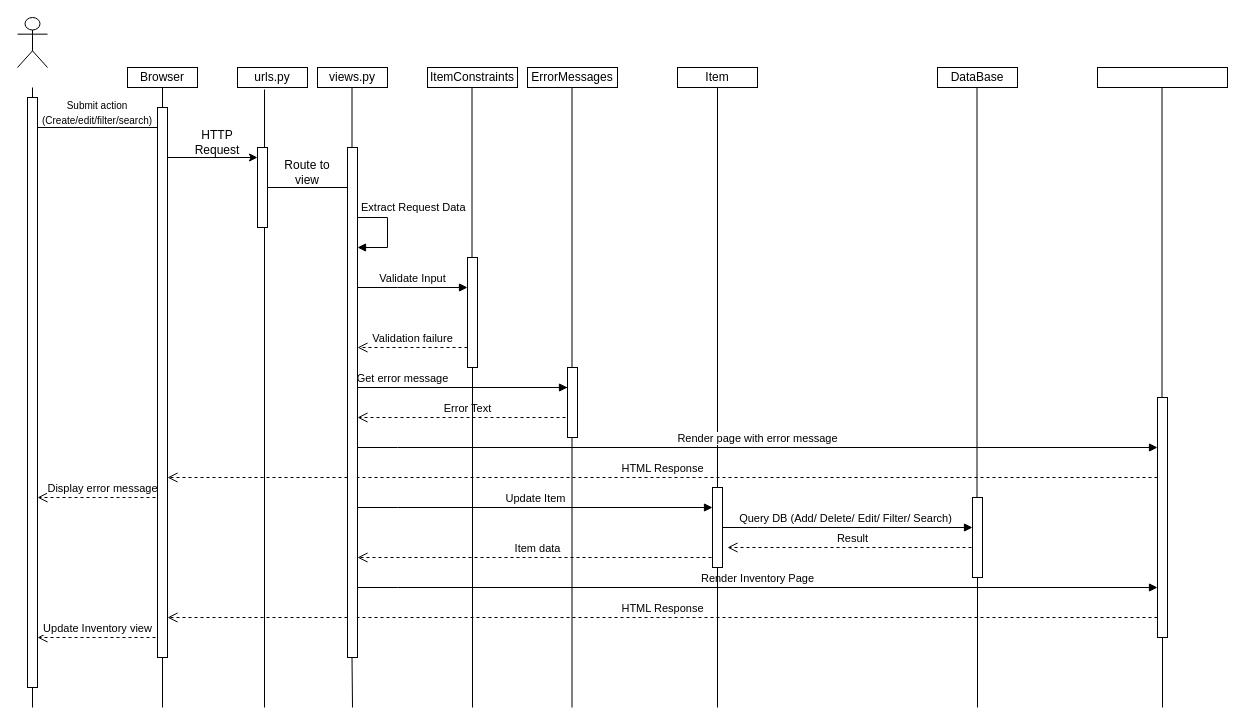
This 1245x726 diagram has some shape labels left out. Here are the shapes that lost their labels. From the top down, the centre of each, then its label:
At point 32,42: "Actor".
At point 1162,77: "inventorysplash.html".
